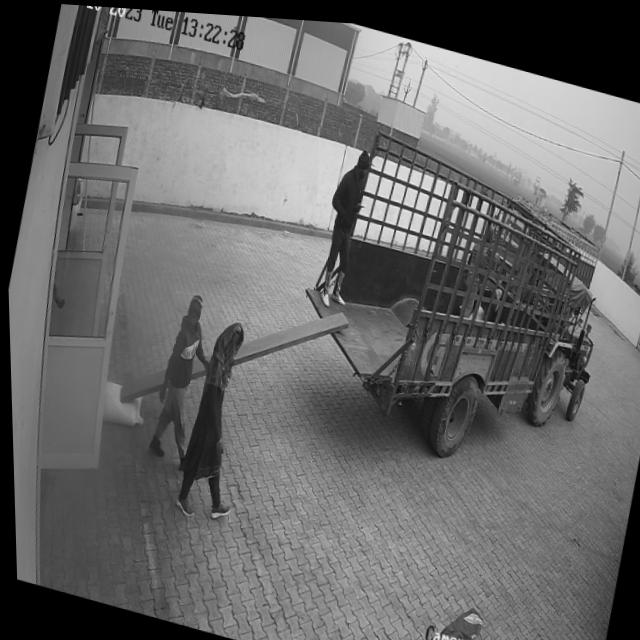sack: (96, 378, 146, 430)
